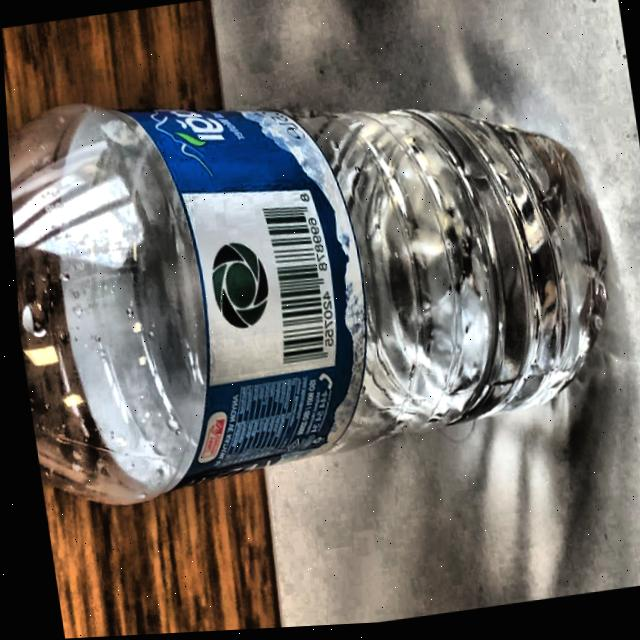plastic: (6, 99, 592, 509)
